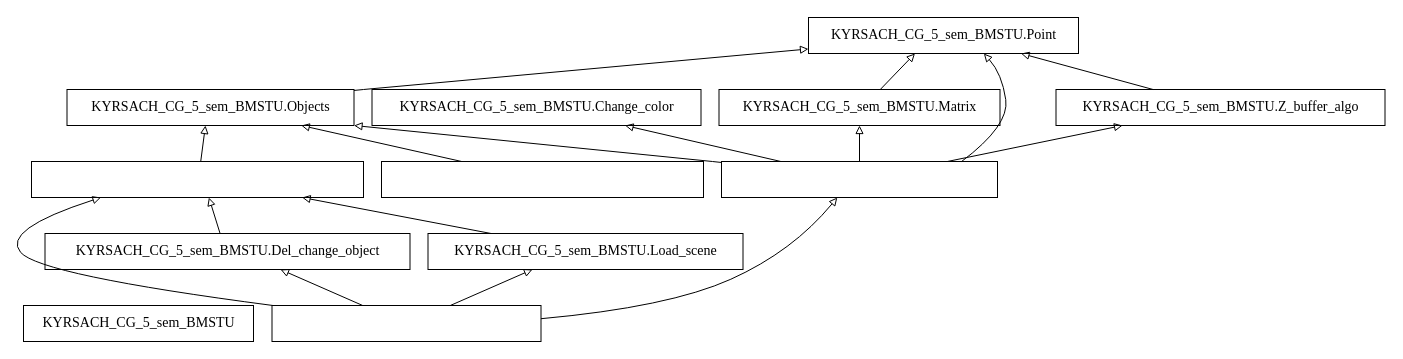
This 1403x359 diagram has some shape labels left out. The shapes that lost their labels are listed below. From the top down, each one's centre as x and y in pixels, then its label:
At [197,179]: "KYRSACH_CG_5_sem_BMSTU.Add_interface".
At [542,179]: "KYRSACH_CG_5_sem_BMSTU.test_Objects".
At [859,179]: "KYRSACH_CG_5_sem_BMSTU.Scene".
At [406,323]: "KYRSACH_CG_5_sem_BMSTU.main".
